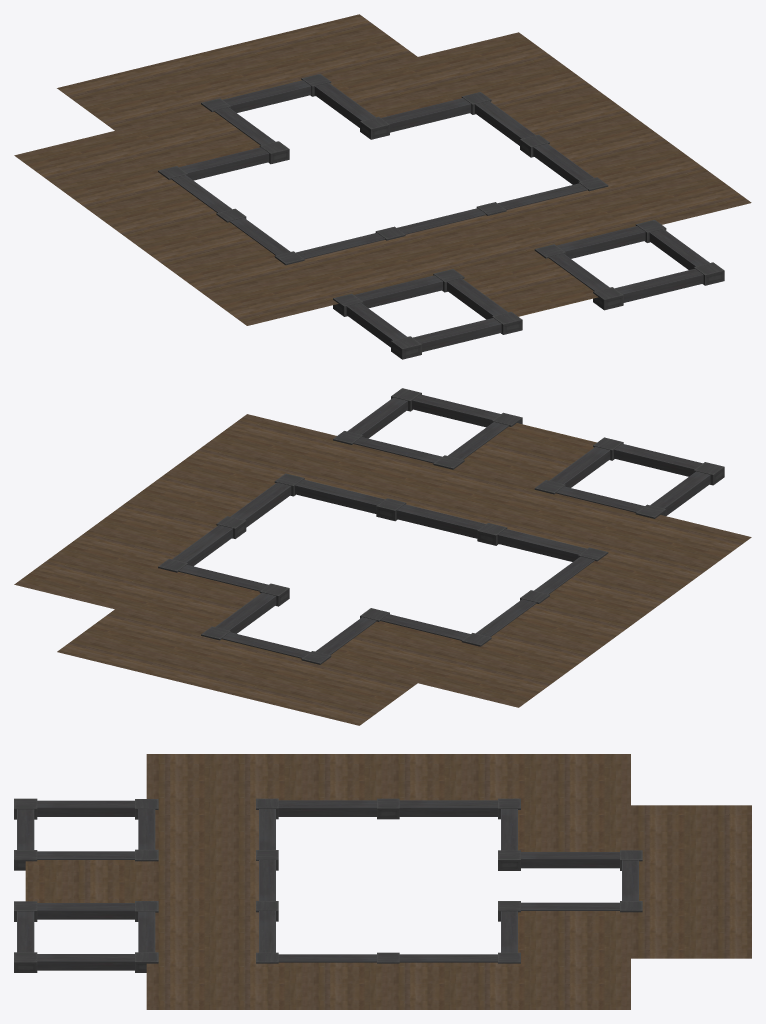
Rendered from Homeworld_Interior_Dq_Room_D_Floor_01_Vo.fbx.
The picture shows the model from 3 angles, top to bottom: view 1: azimuth 30°, elevation 25°; view 2: azimuth 150°, elevation 25°; view 3: azimuth 270°, elevation 25°; orthographic projection. The views are drawn at different scales.
Parts seen in each view (by area): view 1: Homeworld_Interior_Dq_Room_D_Floor_01_Vo; view 2: Homeworld_Interior_Dq_Room_D_Floor_01_Vo; view 3: Homeworld_Interior_Dq_Room_D_Floor_01_Vo.
Part boxes in pixels (x1,y1,x2,y2): Homeworld_Interior_Dq_Room_D_Floor_01_Vo: [14, 14, 751, 359]; Homeworld_Interior_Dq_Room_D_Floor_01_Vo: [14, 388, 751, 725]; Homeworld_Interior_Dq_Room_D_Floor_01_Vo: [14, 754, 751, 1009].
Bounding box in the file's own units: 25 × 0.499 × 30.48.
